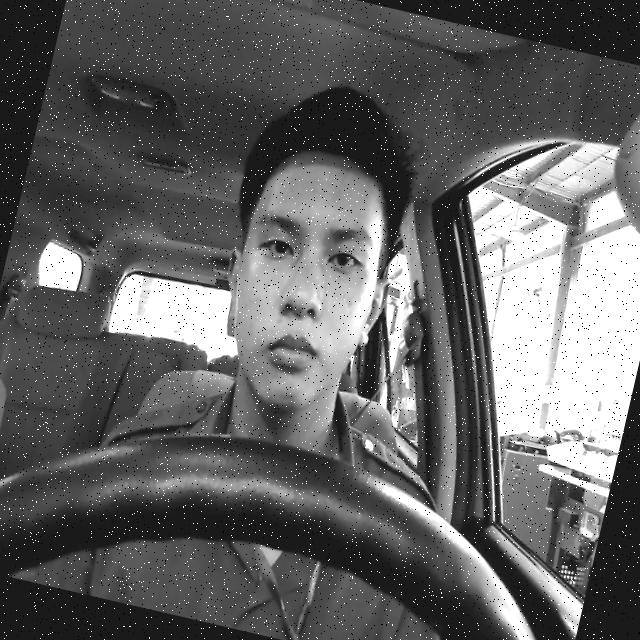focused: (198, 135, 416, 427)
